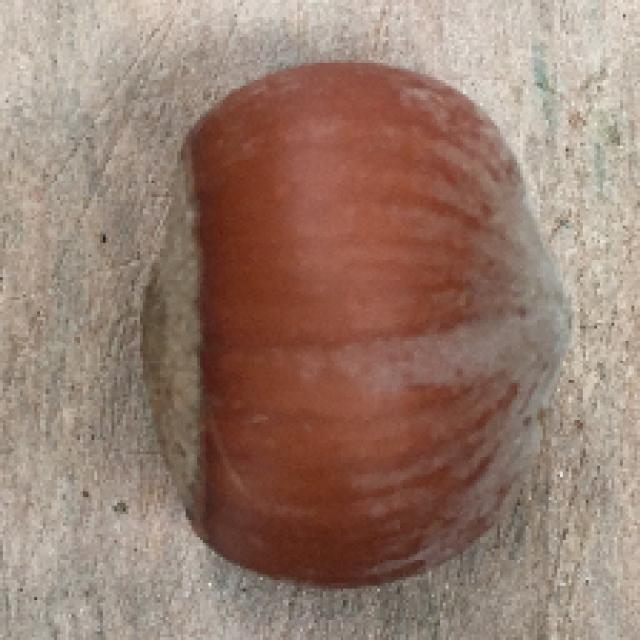qualityHazelnut: (136, 59, 576, 594)
